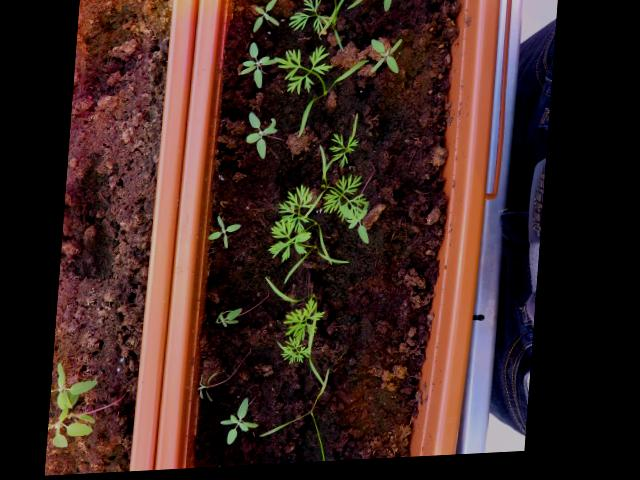weed: (218, 398, 266, 451), (242, 112, 283, 167), (205, 214, 247, 257), (246, 0, 285, 39)
